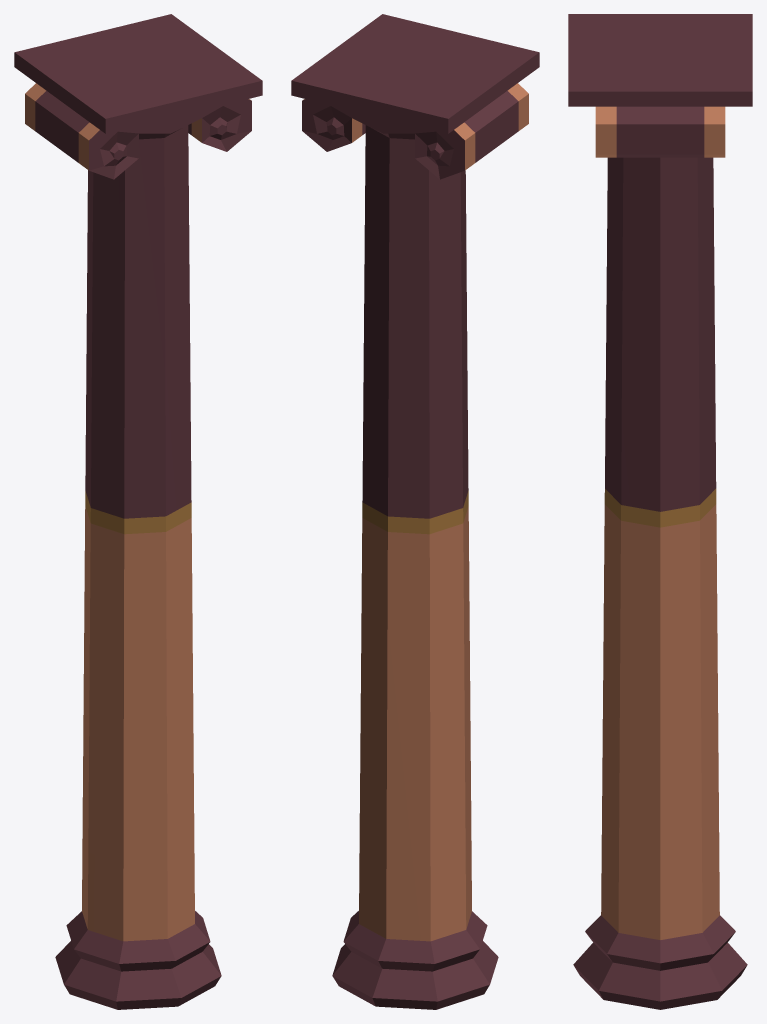
File: SM_Pillar_Ionic_Medium_Color_Empire.fbx
3 views of the same model, side by side, from view 1: azimuth 30°, elevation 25°; view 2: azimuth 150°, elevation 25°; view 3: azimuth 270°, elevation 25° (orthographic).
Parts seen in each view (by area): view 1: SM_Pillar_Ionic_Medium_Color_Empire; view 2: SM_Pillar_Ionic_Medium_Color_Empire; view 3: SM_Pillar_Ionic_Medium_Color_Empire.
Boxes of the visible parts, x1,y1,x2,y2 form: SM_Pillar_Ionic_Medium_Color_Empire: (14,14,262,1009); SM_Pillar_Ionic_Medium_Color_Empire: (291,14,539,1009); SM_Pillar_Ionic_Medium_Color_Empire: (568,14,752,1009).
Size of the model in its own units: 1.12 by 6 by 1.09.
